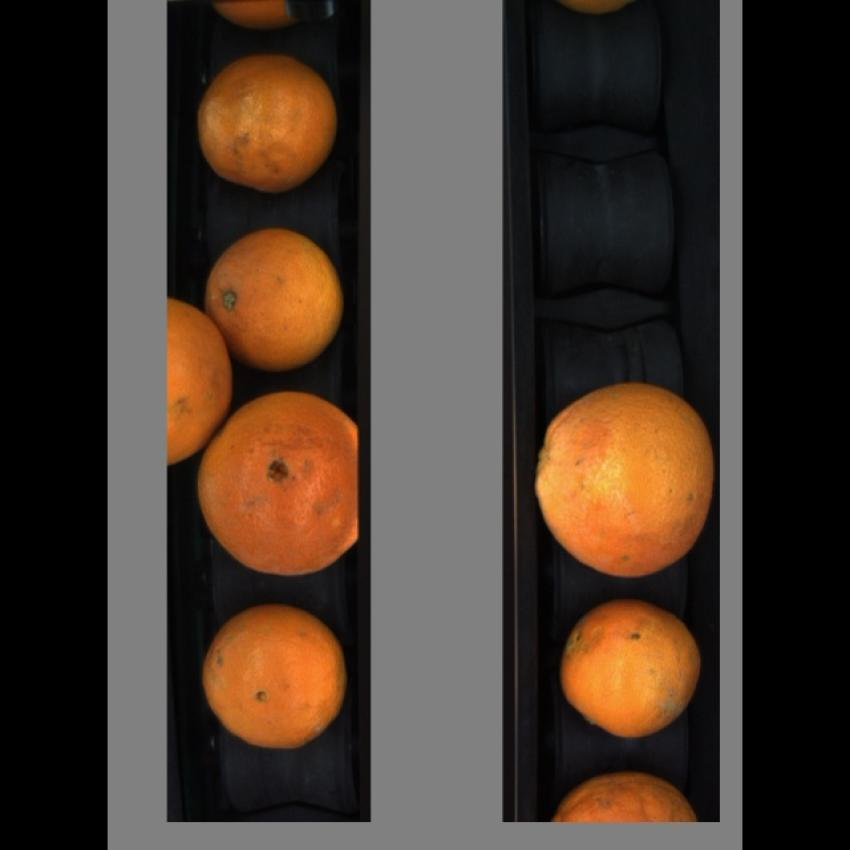Buen estado: (197, 223, 346, 377), (165, 296, 239, 479)
Mal estado: (528, 378, 720, 587), (193, 385, 362, 574), (549, 591, 709, 748), (190, 43, 349, 198), (199, 599, 353, 757), (543, 762, 710, 826)
